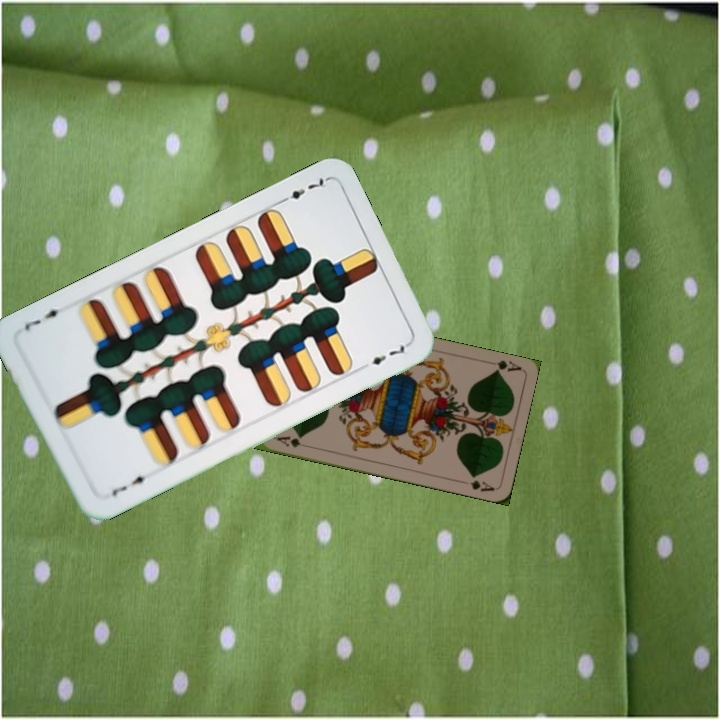E7: (274, 173, 330, 207), (107, 471, 153, 499)
GA: (272, 432, 312, 450), (490, 356, 523, 375)
